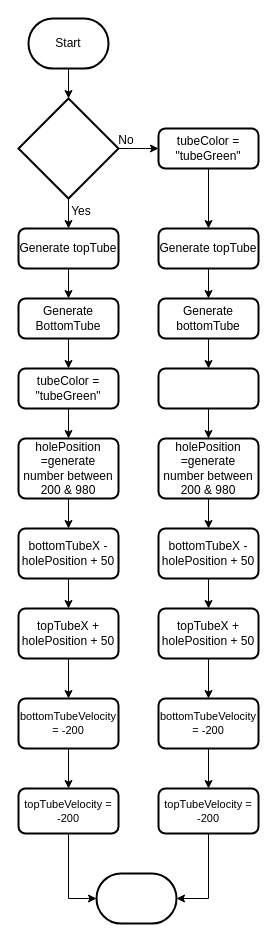
This 276x941 diagram has some shape labels left out. Each missing label, with the centre of its shape:
if tubeColor = "tubeOrange": point 68,148
Stop: point 136,898
tubeColor = "tubeOrange": point 208,388
